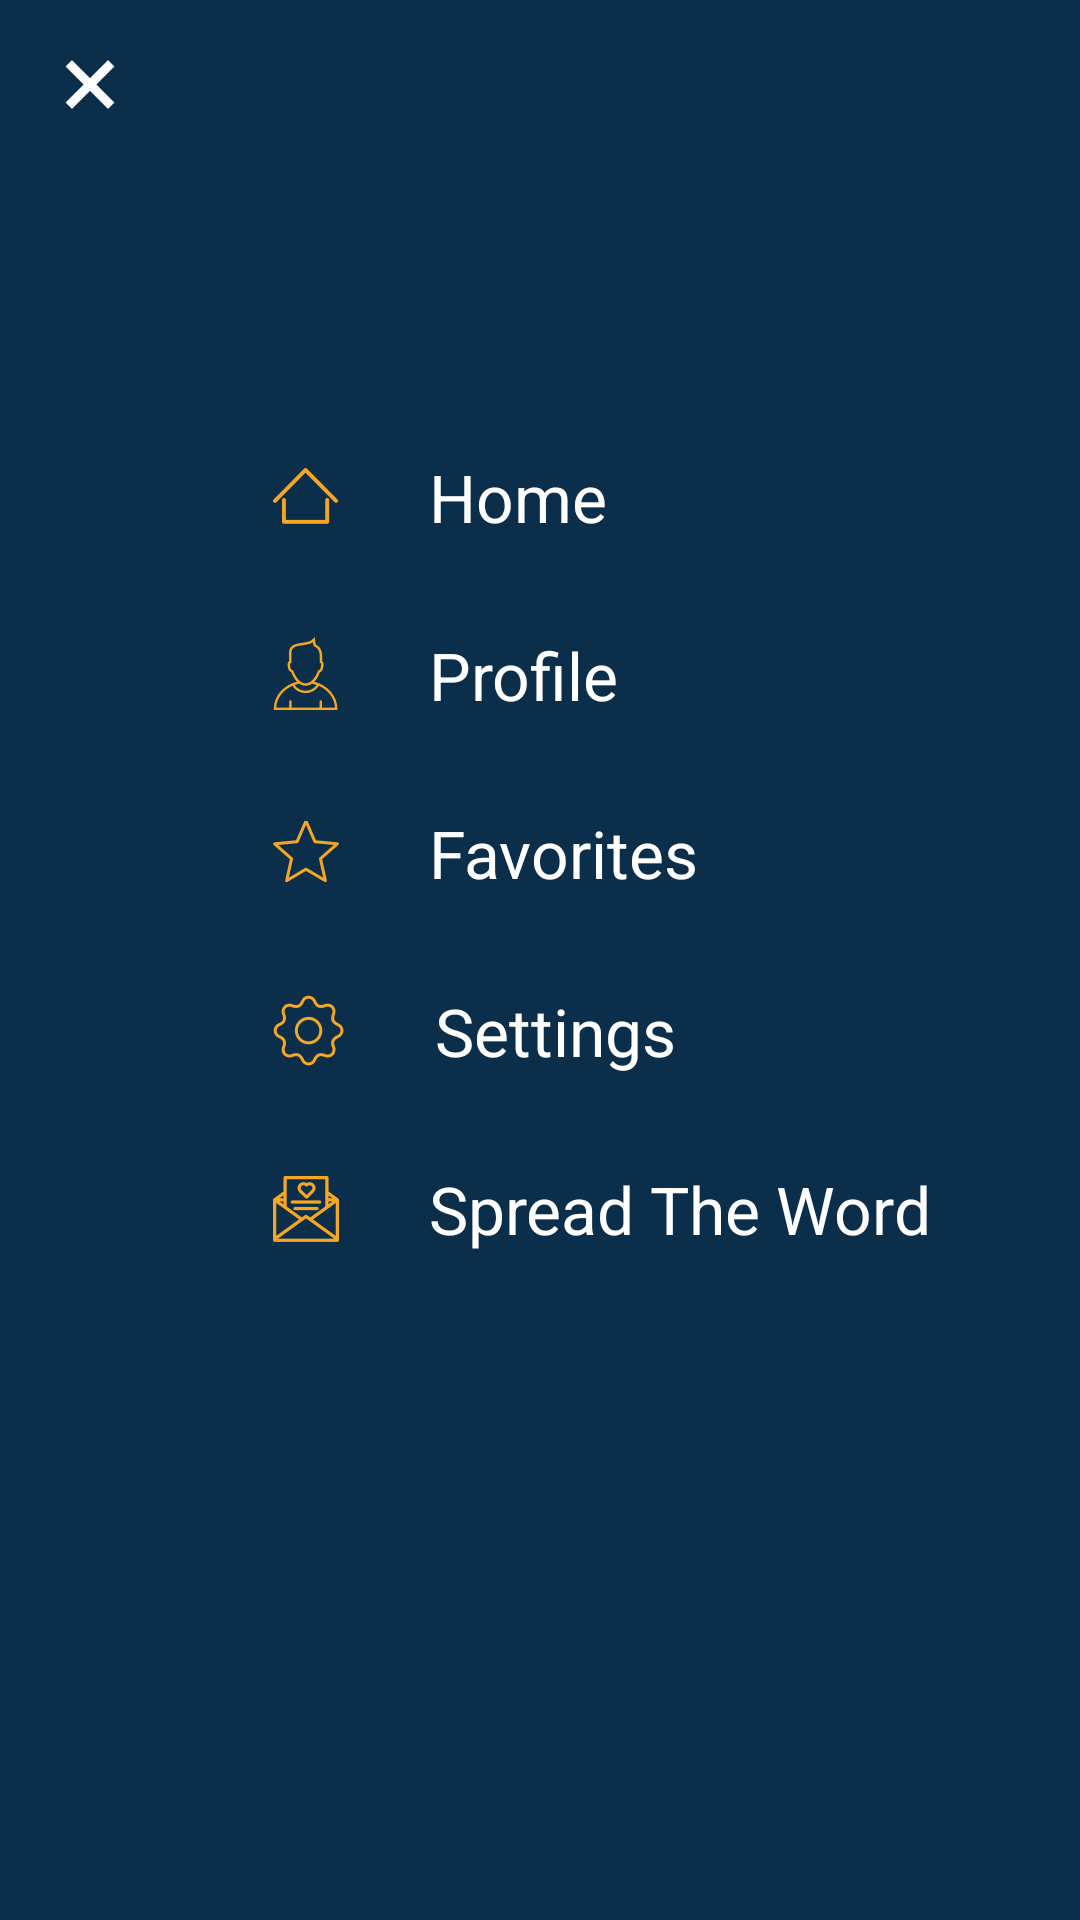

Where to tap for icons on this 1080*1920 app screen, as (x=x, y=y):
close menu: (x=90, y=84)
favourites: (x=306, y=852)
